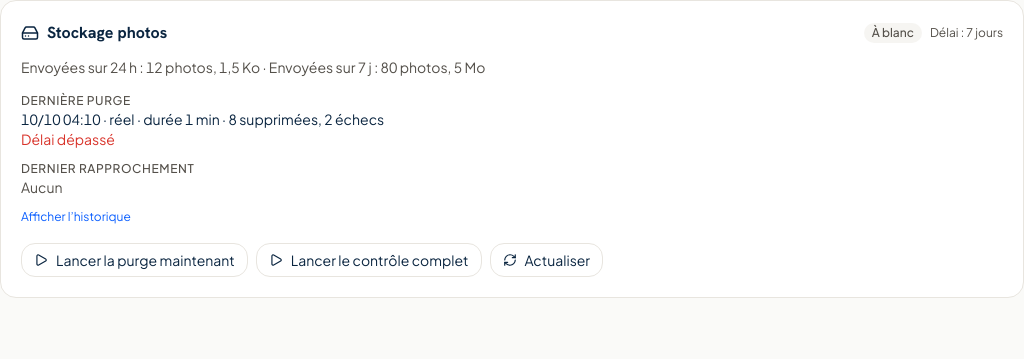
Scenario: PhotoStorageCard › l'historique affiche l'erreur d'une purge et « Aucun » sans rapprochement
Expected: the element with test id "last-purge" shows "Délai dépassé", left=21, top=130, right=115, bottom=148
Expected: the element with test id "last-reconcile" shows "Aucun", left=21, top=178, right=62, bottom=196
Click the button with test id "history-toggle".
click(76, 217)  # box left=21, top=209, right=131, bottom=225
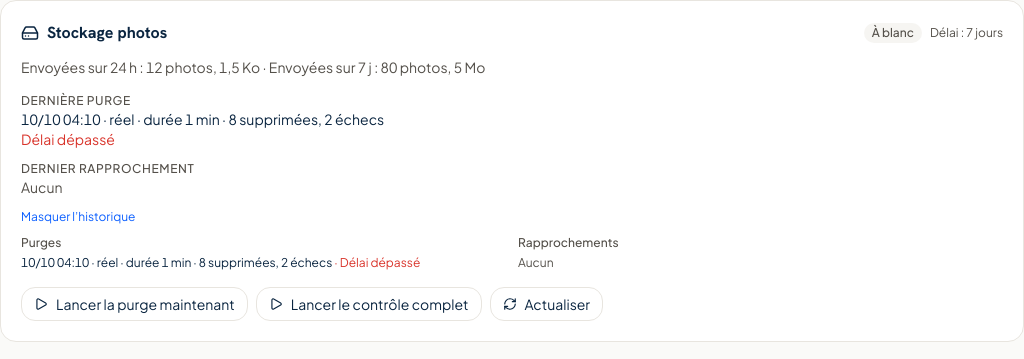
Expected: the list item with test id "history-purge" shows "Délai dépassé", left=334, top=255, right=420, bottom=270
Expected: the element with test id "history" shows "Aucun", left=518, top=255, right=554, bottom=270
